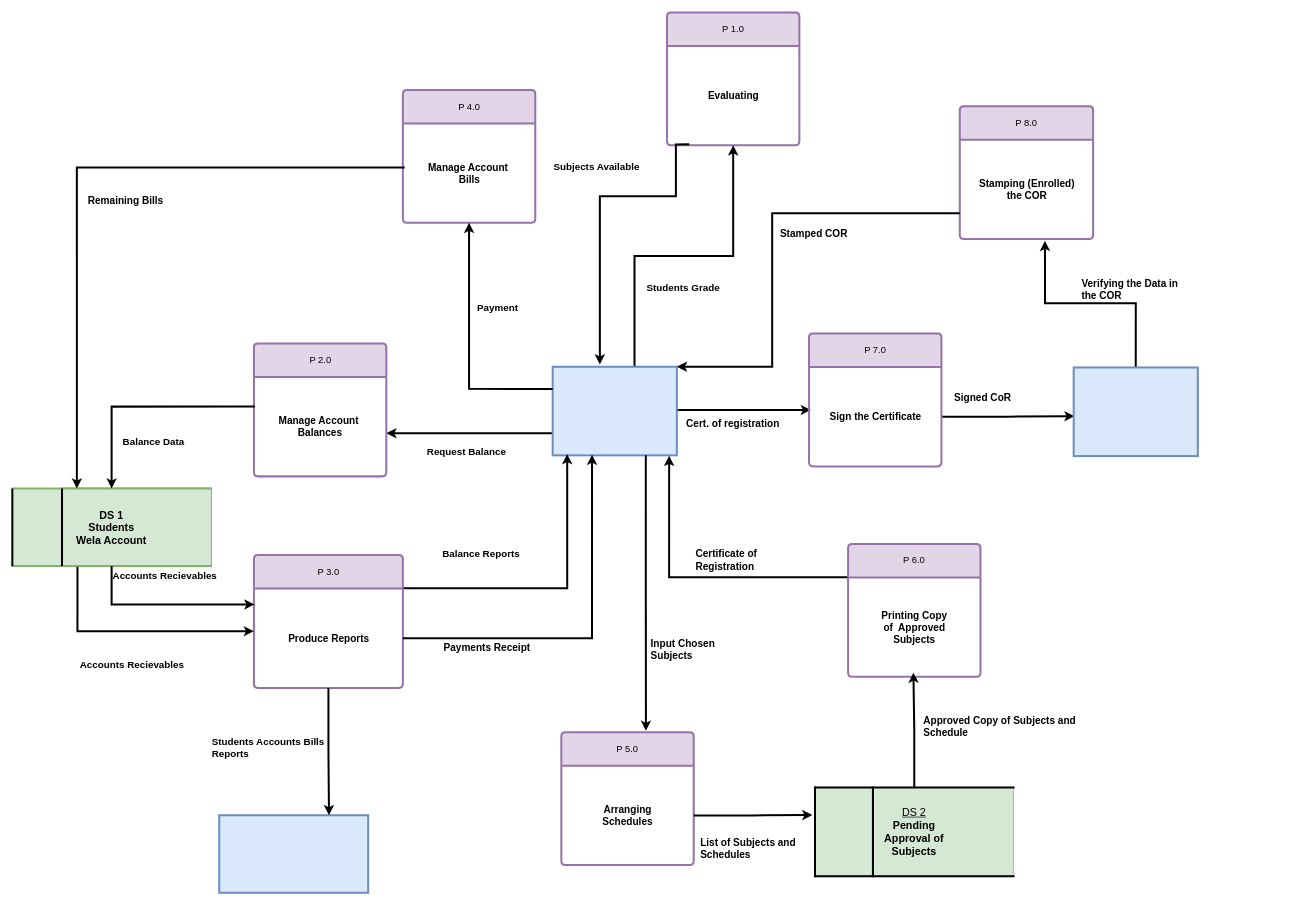
Image size: 1301x905. Some labels were removed from this diagram. The centre of each missing label's shape, as x and y in pixels:
Accounting Office: [293,853]
Registrar: [1135,411]
Student: [614,410]
